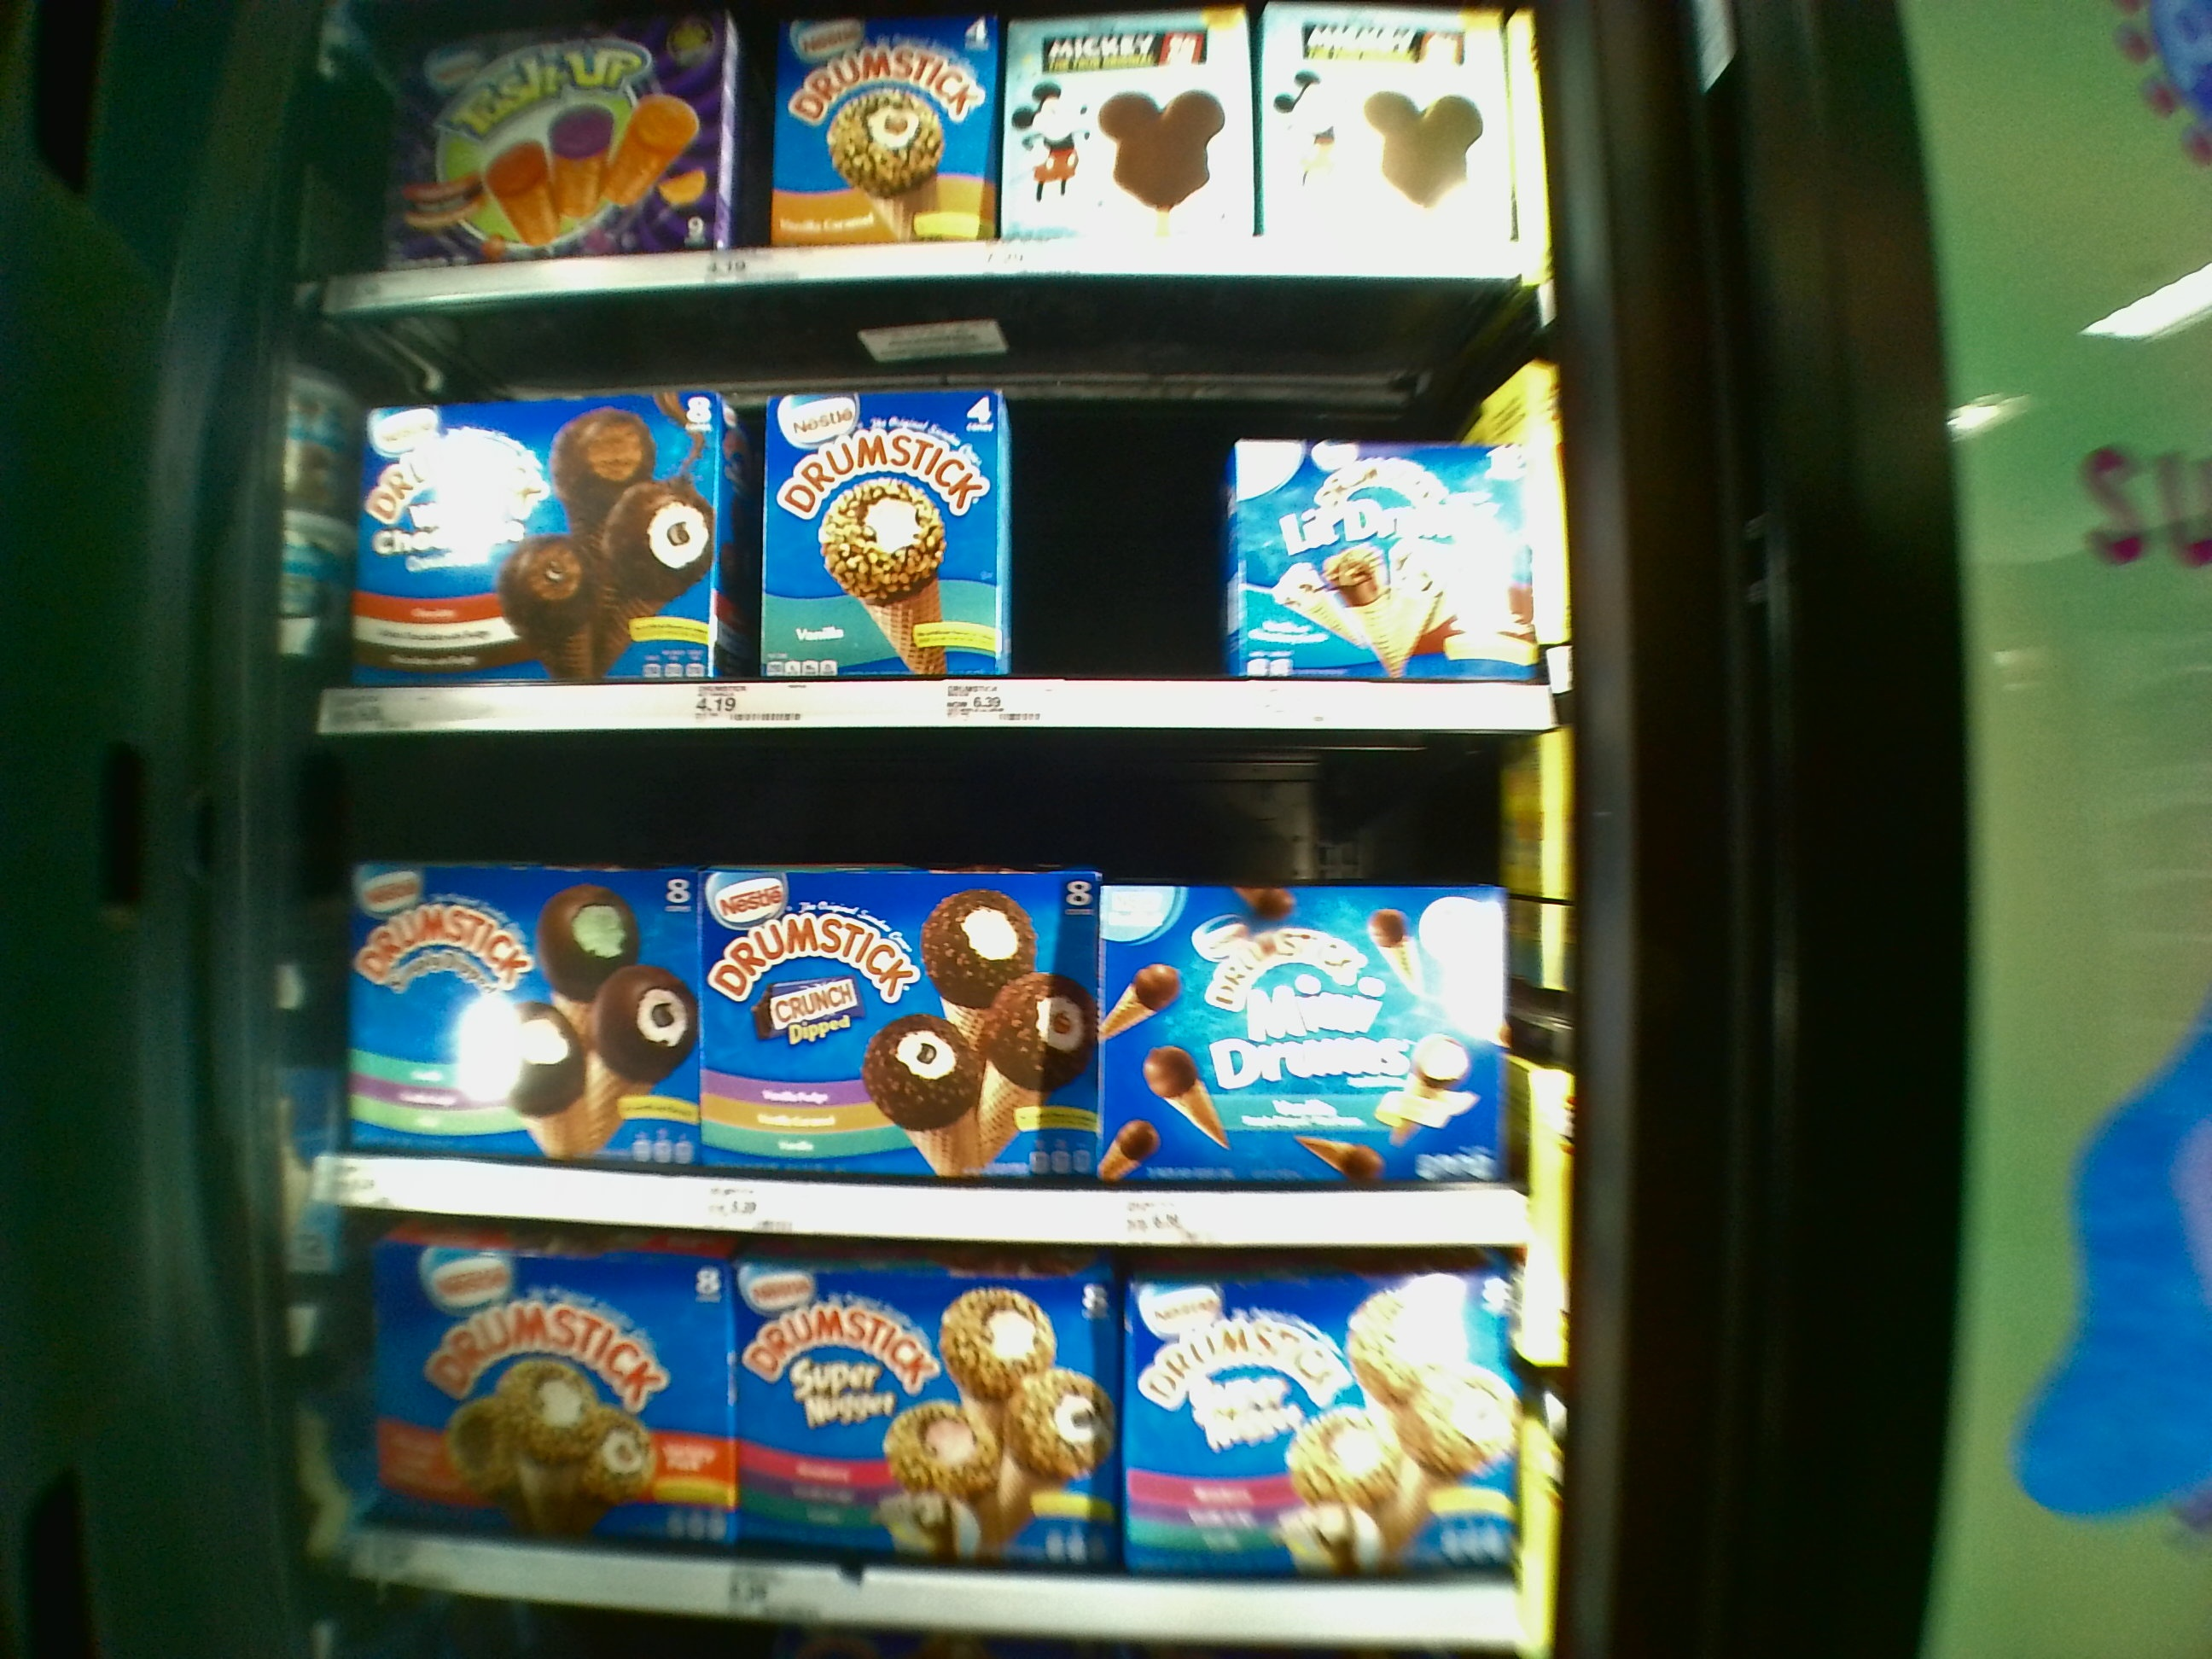shelf: (317, 737, 1541, 1239), (317, 300, 1554, 730), (338, 1243, 1531, 1659)
